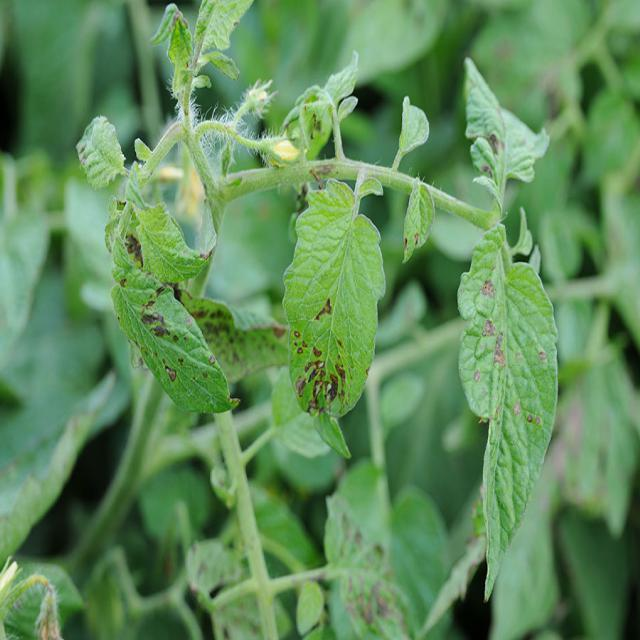Tomato leaf bacterial spot: (99, 225, 217, 440), (453, 239, 563, 448), (290, 304, 378, 461)
